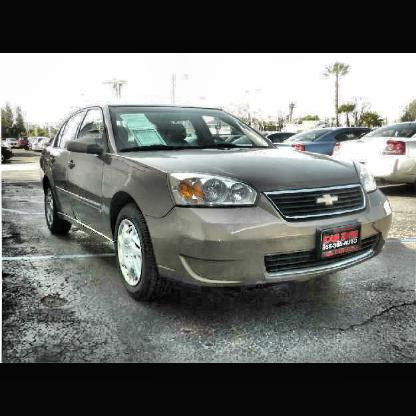Chevrolet Malibu Sedan 2007: (38, 104, 396, 305)
